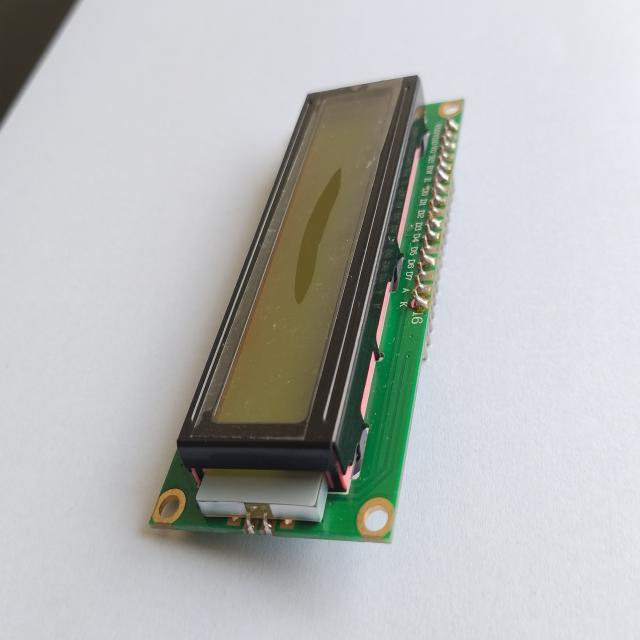lcd: (148, 73, 464, 544)
